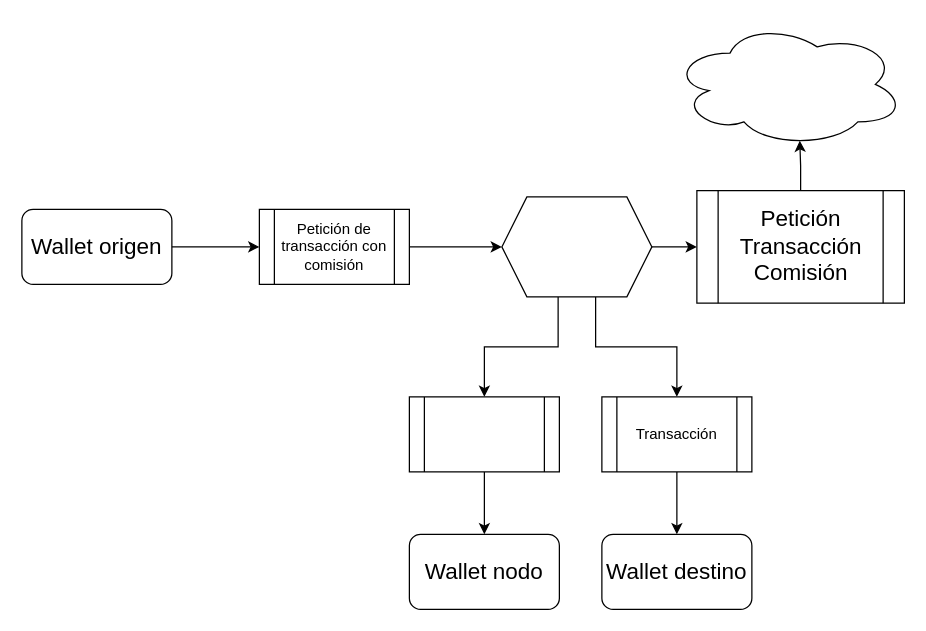
Image size: 926x631. Some labels were removed from this diagram. The centre of each missing label's shape, as x and y in pixels:
Comisión: the point at 483,434
Nodo: the point at 576,246
Red de nodos: the point at 787,84
